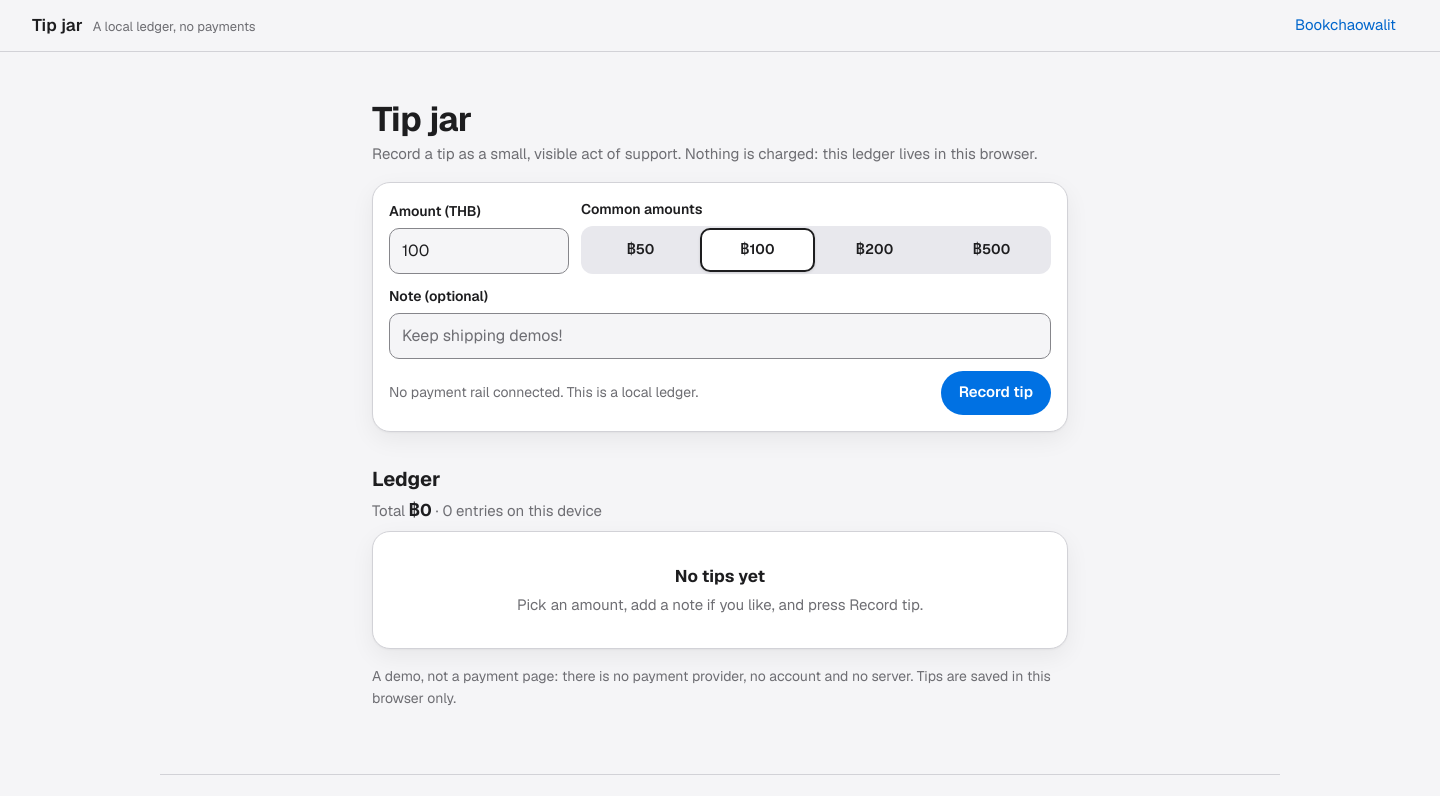
batch Undo › consecutive removes restore together with one Undo
Click the button "฿50" at (640, 250), box x1=583 y1=228 x2=698 y2=272
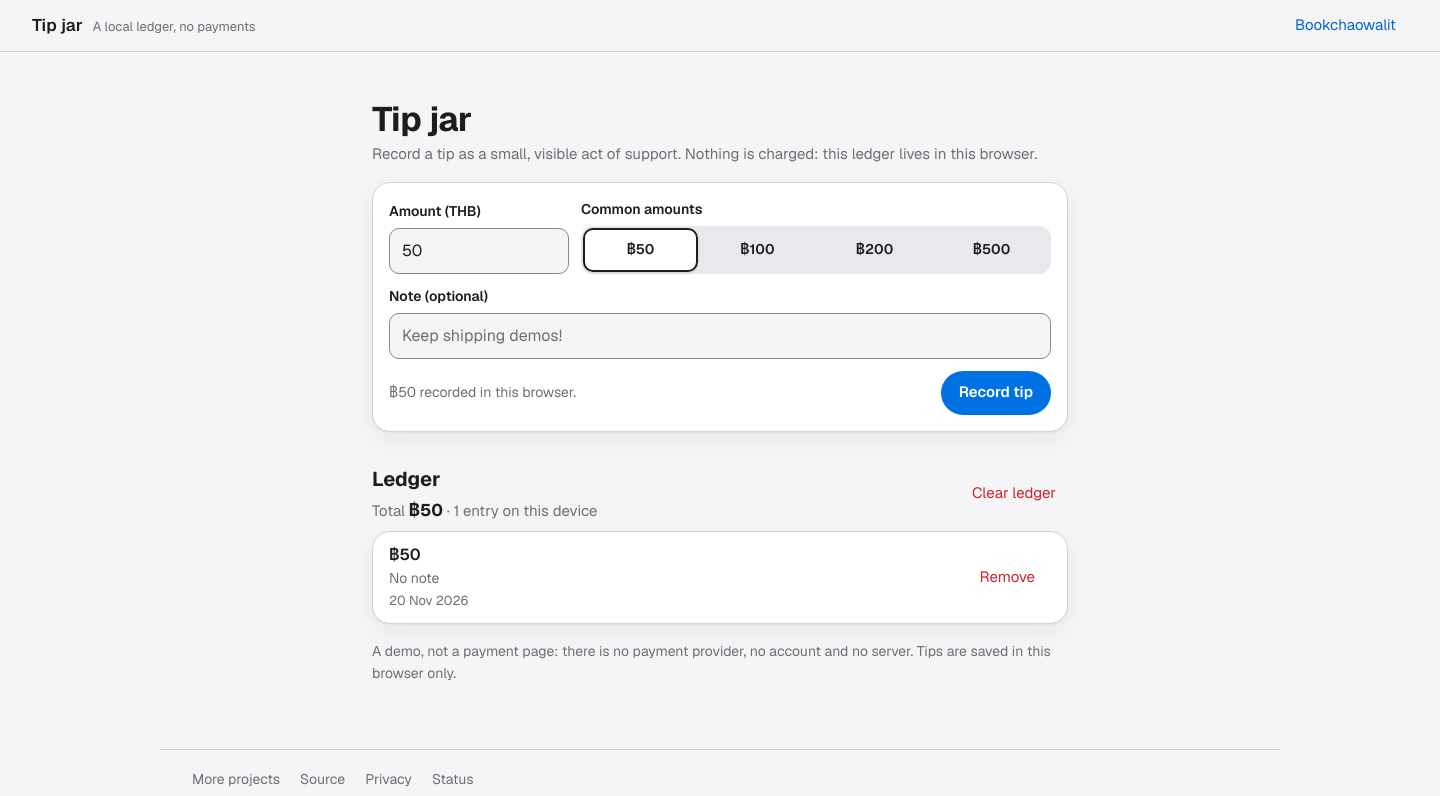
Click the button "฿100" at (758, 250), box x1=700 y1=228 x2=815 y2=272
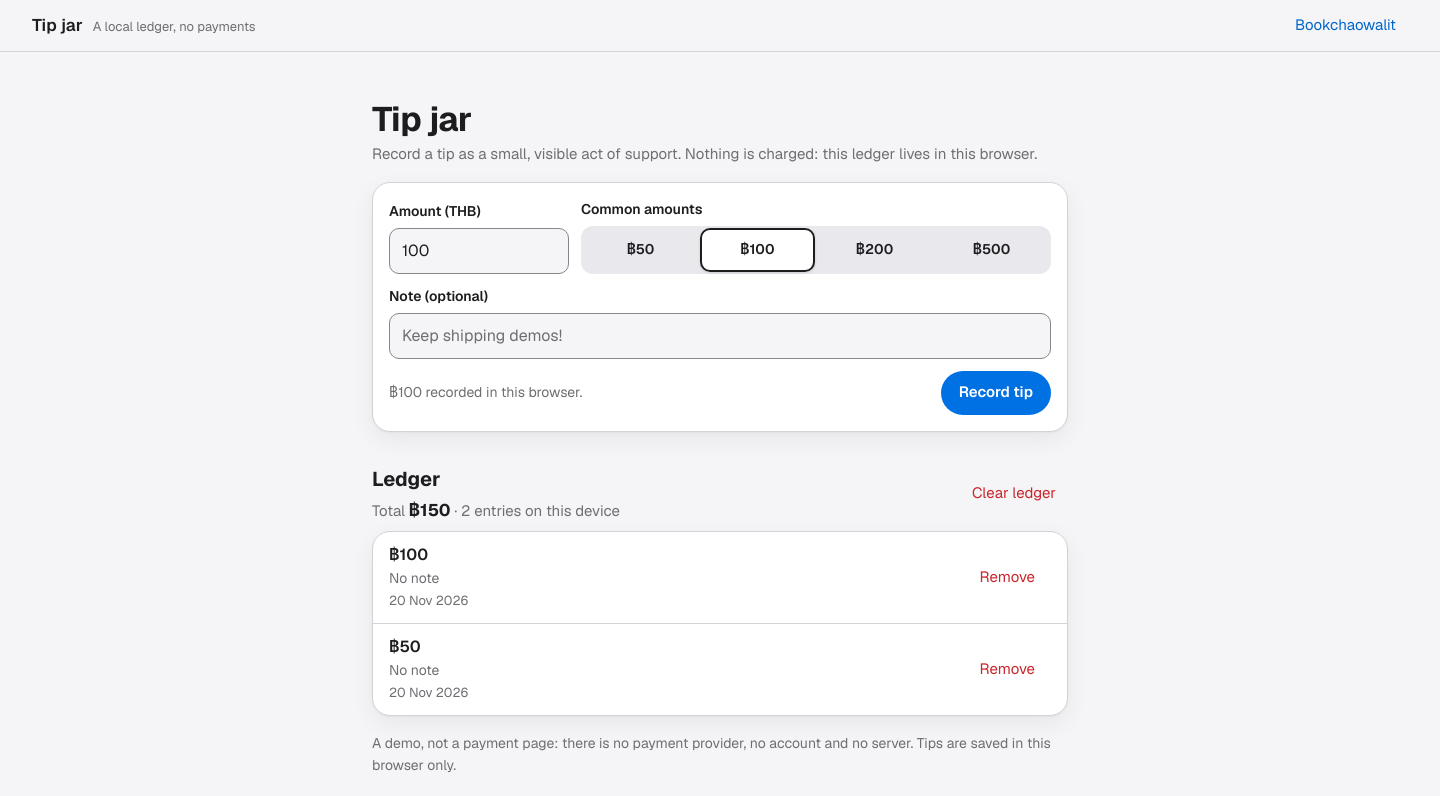
Click the button "฿500" at (992, 250), box x1=934 y1=228 x2=1049 y2=272
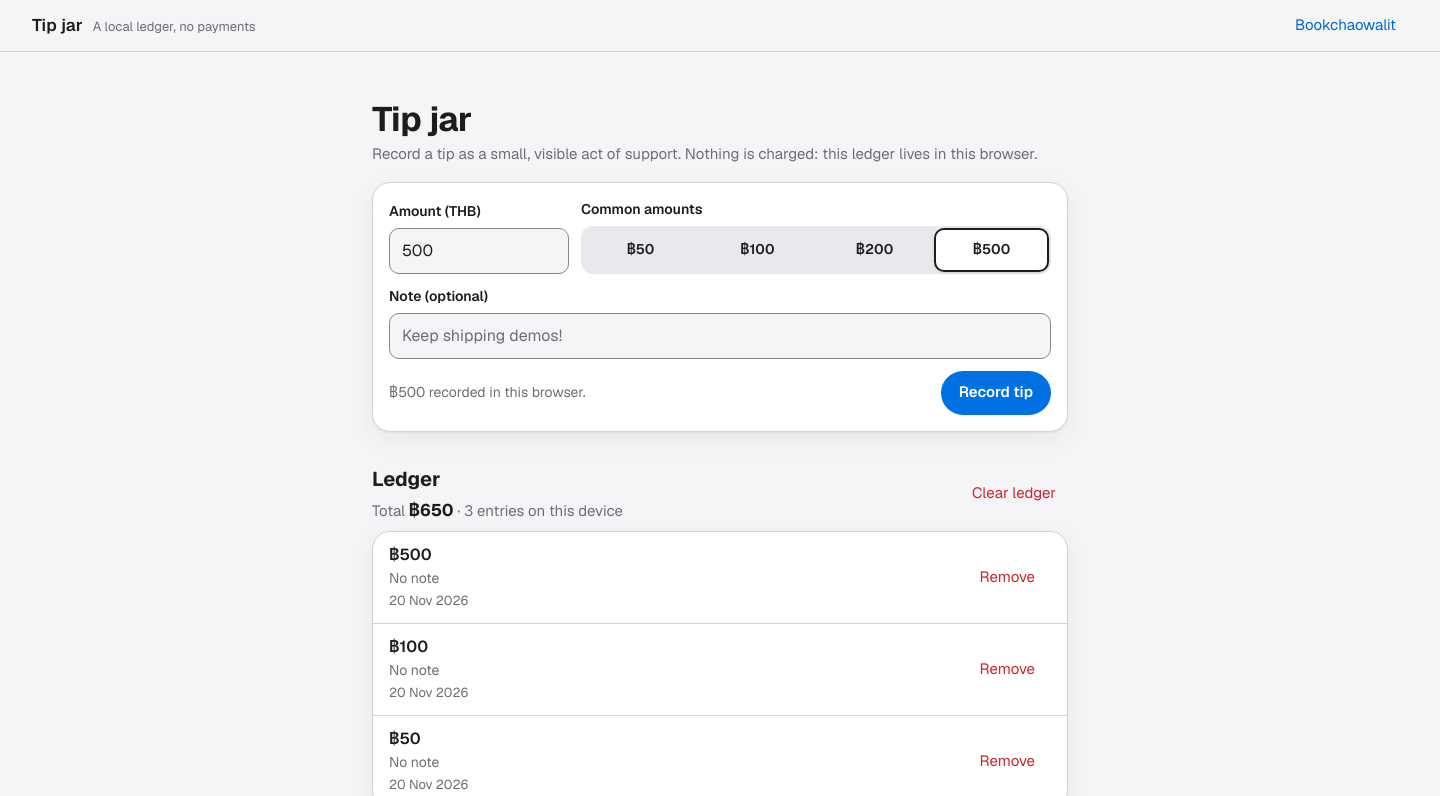
Click the 3rd button with class "as-danger" at (1007, 669), box x1=968 y1=647 x2=1047 y2=691
Wait 4000 ms
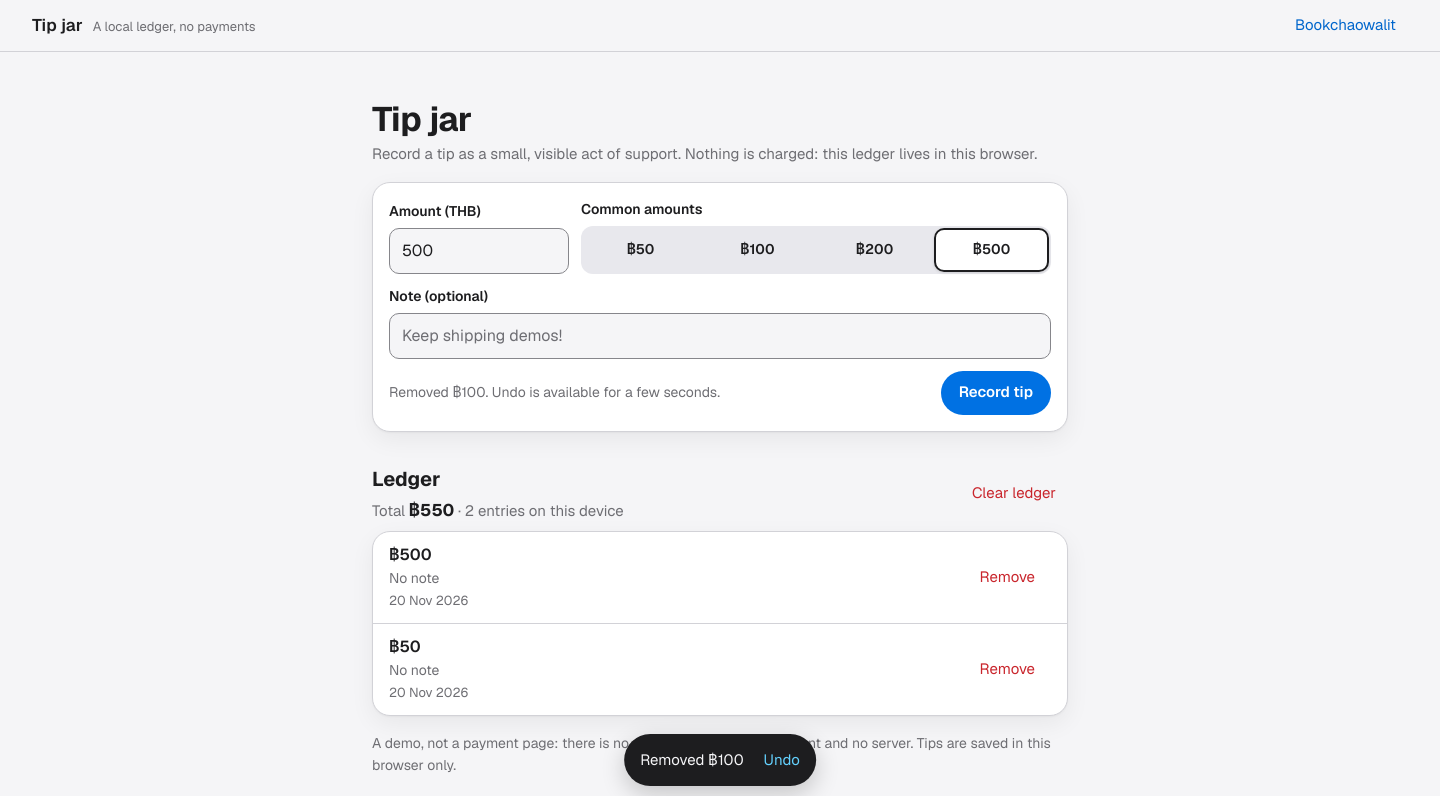
Click the 2nd button with class "as-danger" at (1007, 578), box x1=968 y1=556 x2=1047 y2=600
Wait 4000 ms
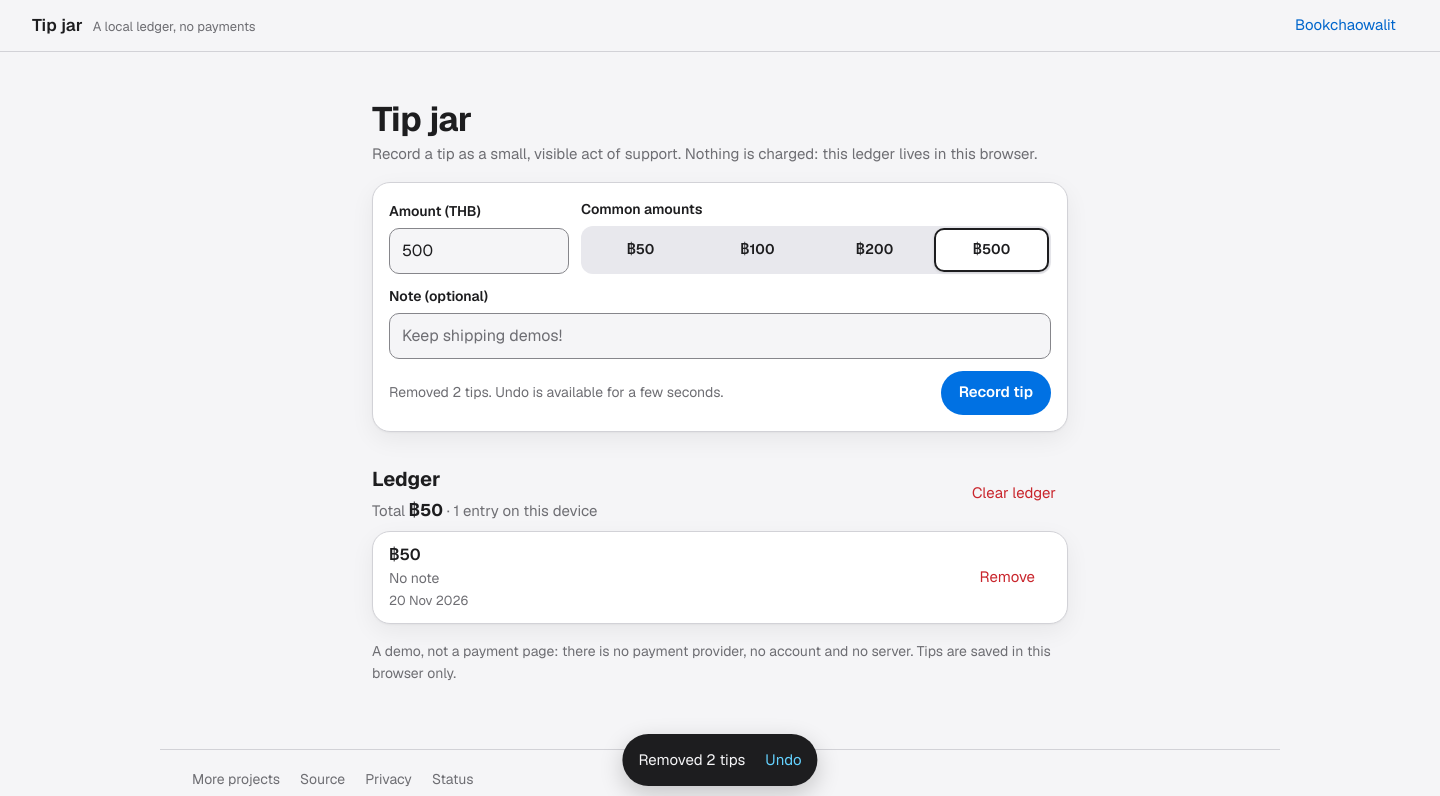
Expected: the text "Removed 2 tips" is shown, x1=638 y1=749 x2=745 y2=771
Click the button "Undo" at (784, 760), box x1=753 y1=738 x2=814 y2=782
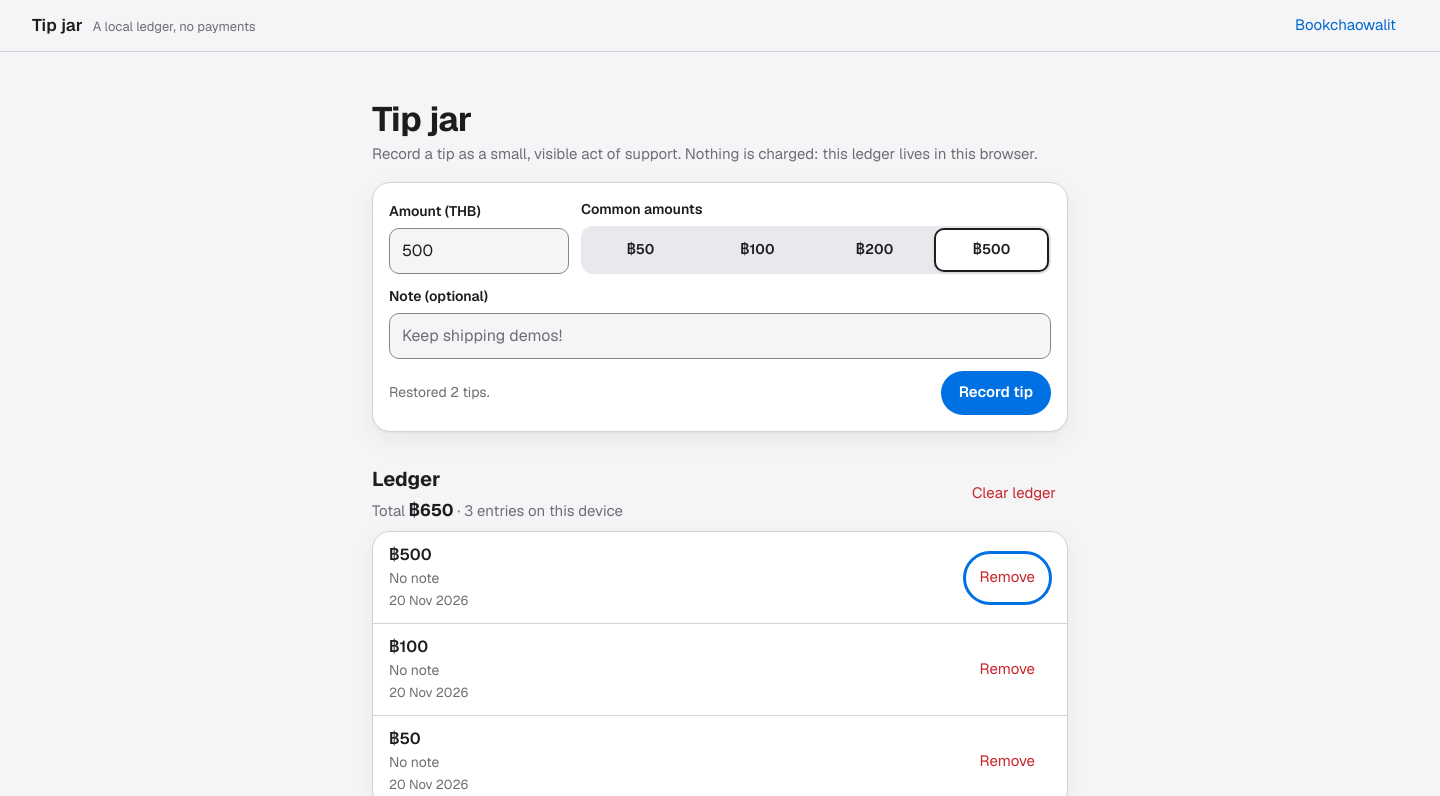
Expected: the element with class "as-toast" is gone
Expected: the text "Restored 2 tips." is shown, x1=389 y1=382 x2=490 y2=403
